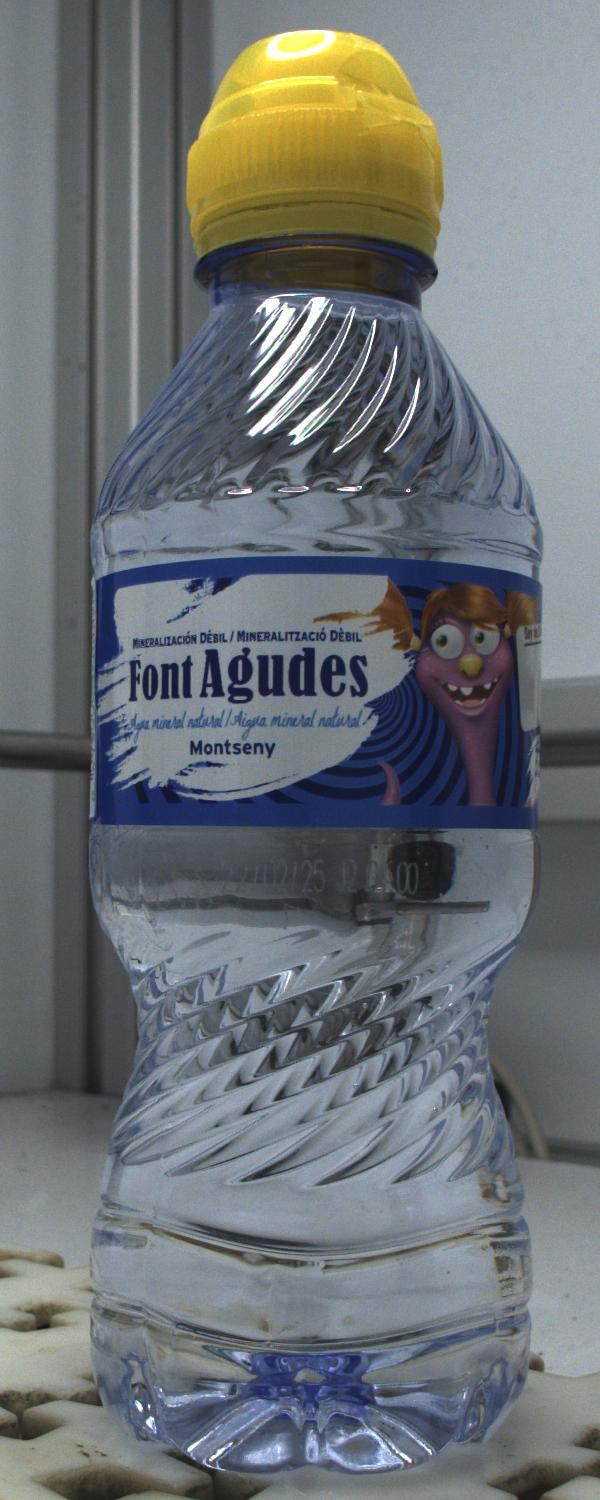bottle: (91, 31, 540, 1470)
cap: (91, 31, 540, 1470), (186, 29, 443, 257)
